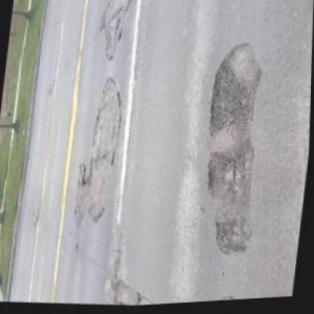Hueco: (208, 62, 252, 141), (202, 149, 252, 200), (210, 219, 253, 257), (78, 176, 92, 187)
